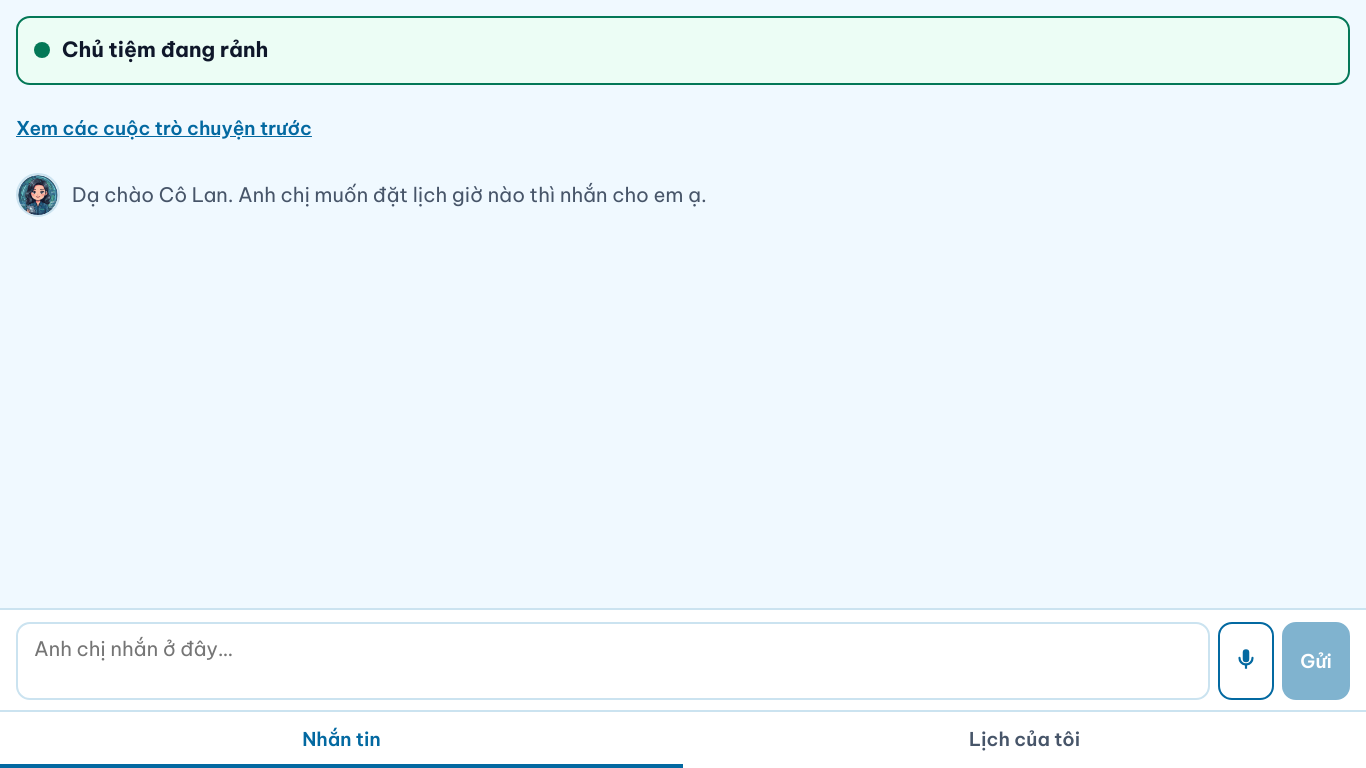
Test: ChatScreen › 28. transcript append vào draft đang có, nối bằng MỘT khoảng trắng
Type "mai 3 giờ" into the text box named "nhắn cho tiệm" at coordinates (613, 661), box [16, 622, 1210, 700]
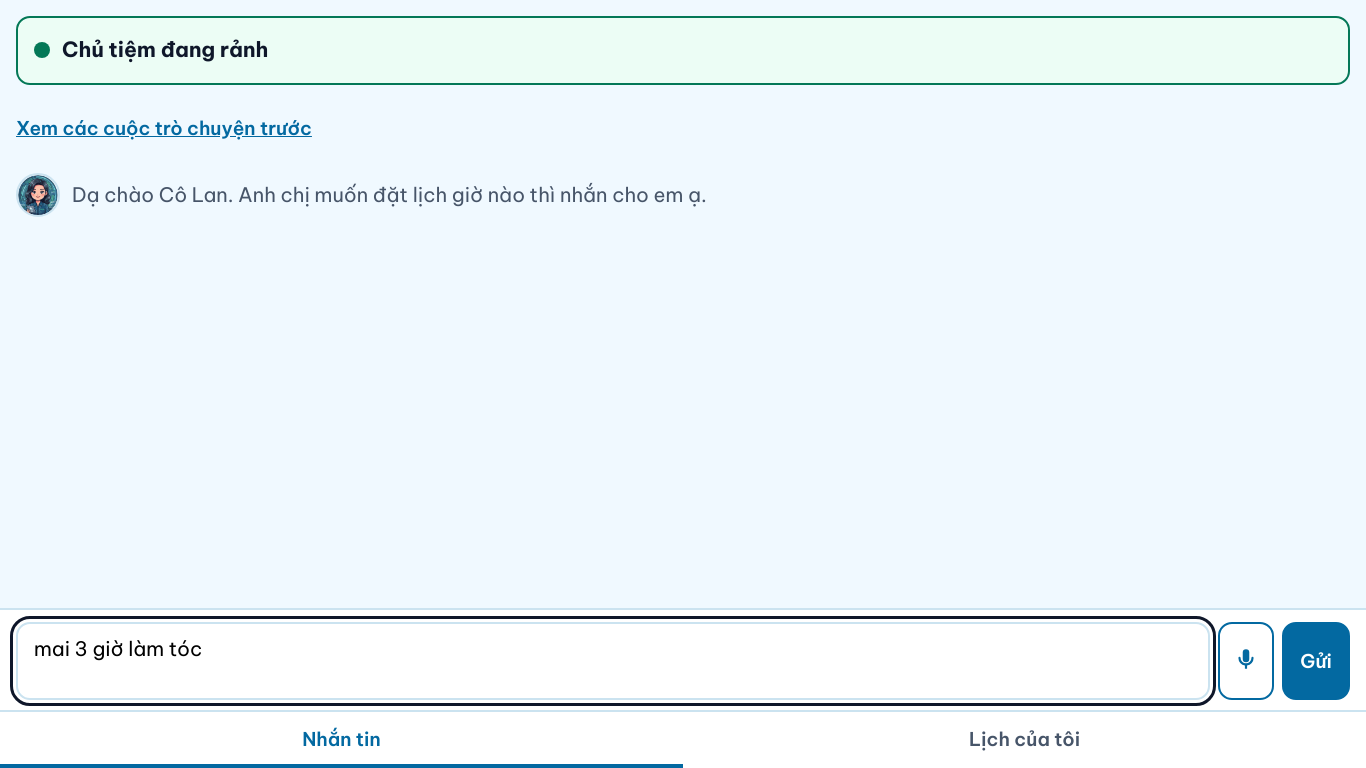
Expected: the text box named "nhắn cho tiệm" holds "mai 3 giờ làm tóc", [16, 622, 1210, 700]
